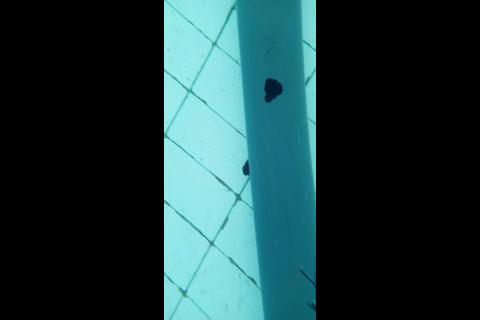kebocoran: (263, 76, 283, 104)
keretakan: (299, 267, 314, 289), (307, 299, 315, 317)
